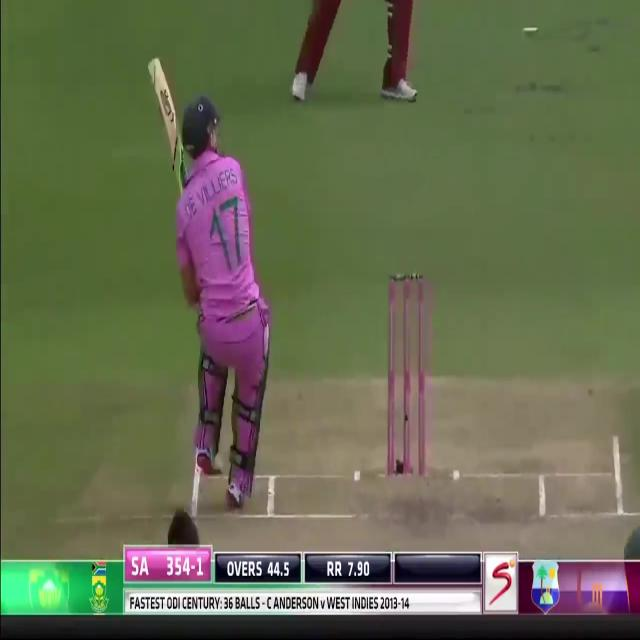Ball: (168, 95, 273, 529)
Fielder: (290, 0, 352, 101), (381, 1, 430, 97)
